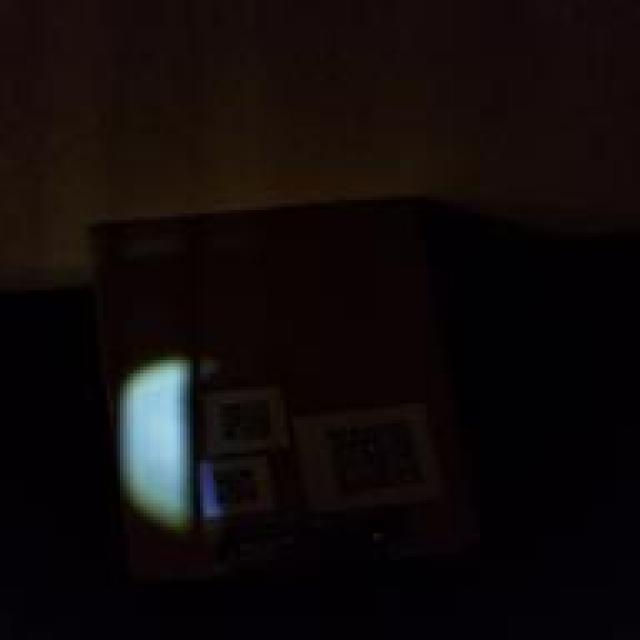QR_CODE: (318, 414, 434, 504), (205, 393, 280, 447), (200, 462, 263, 510)
